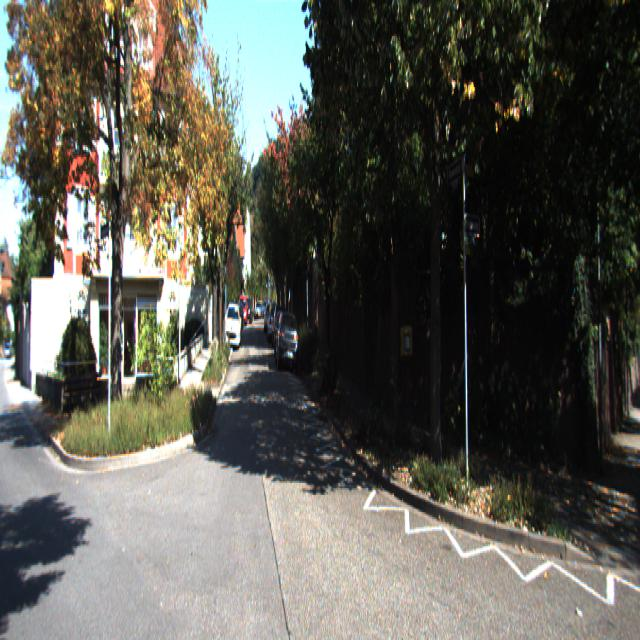Car: (275, 309, 299, 377), (224, 301, 241, 351)
